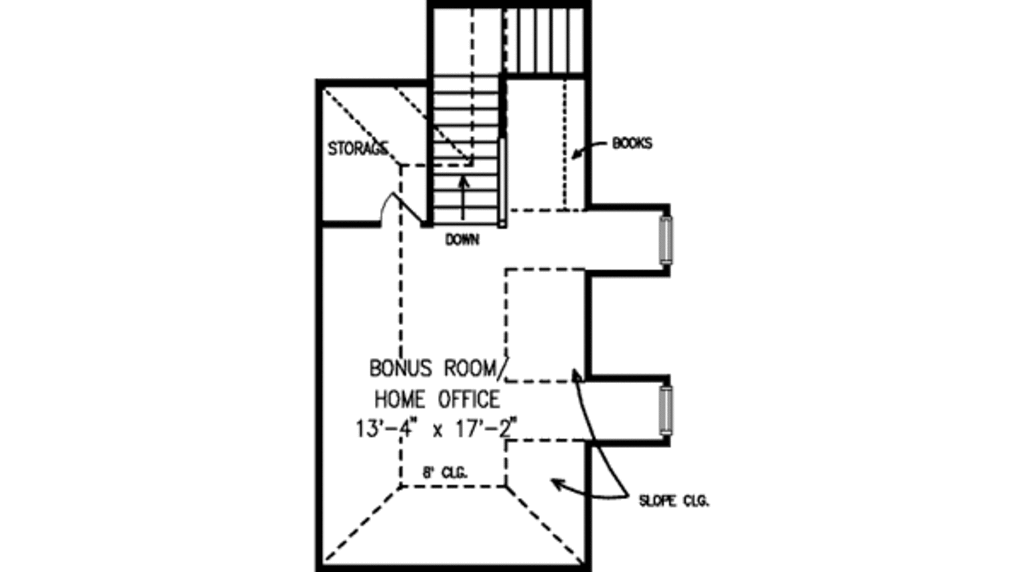door: (380, 188, 420, 228)
stairs: (431, 9, 585, 225)
window: (657, 386, 676, 437), (658, 214, 676, 264)
